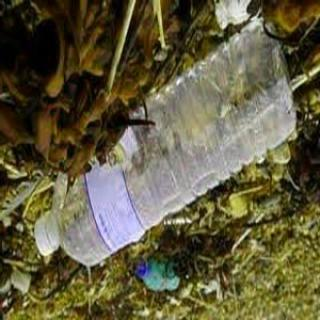Plastic: (34, 19, 299, 268), (133, 260, 186, 292)
